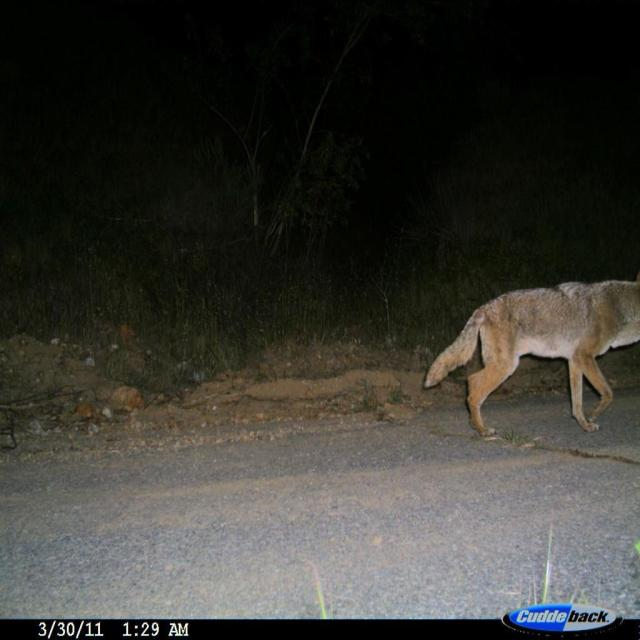coyote: (417, 264, 640, 448)
